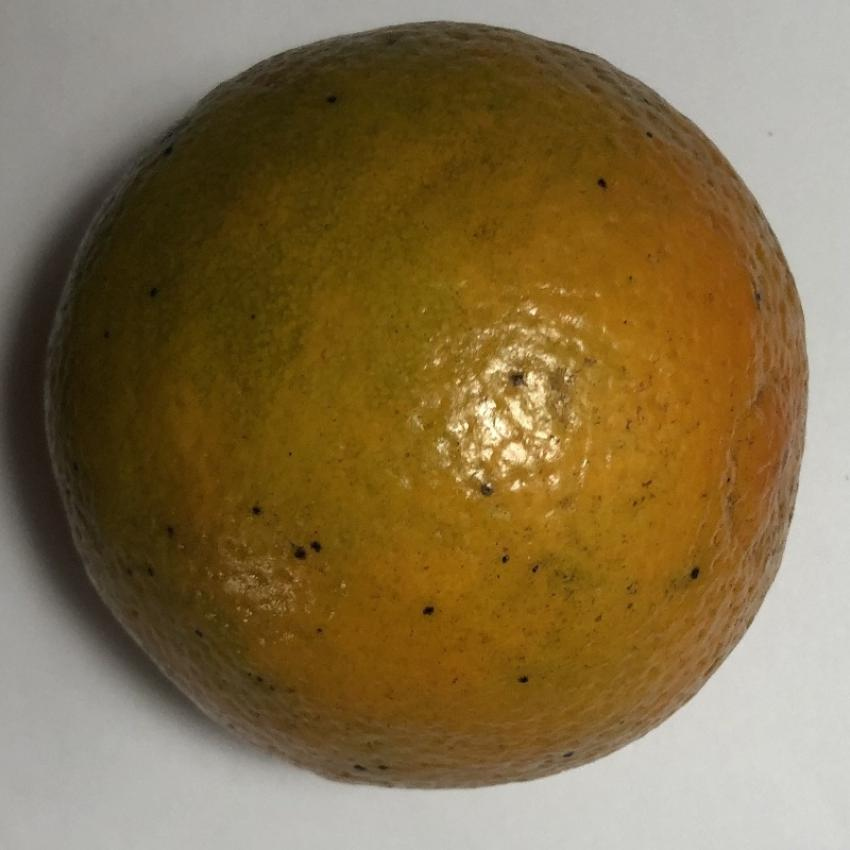Mal estado: (38, 10, 824, 802)
